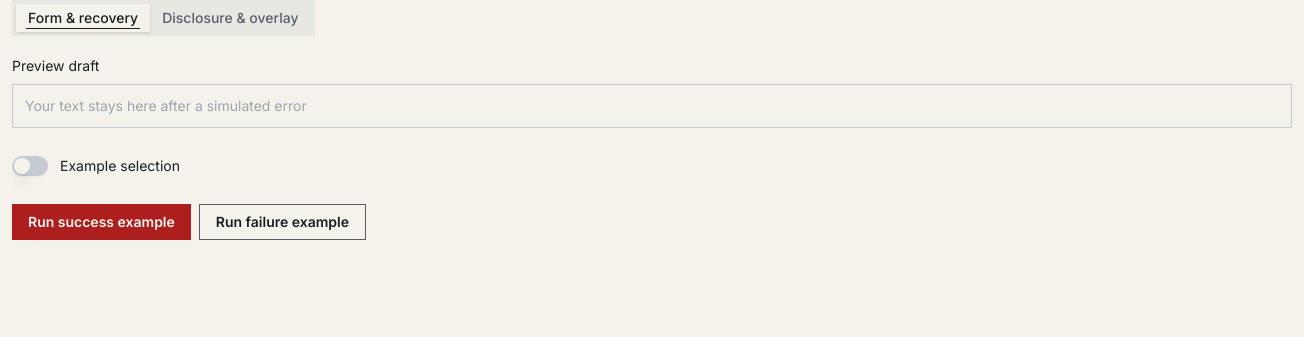
Test: isolated motion previews › preserves entered text through an explicit simulated failure and retry
Type "Keep this draft" into the field labelled "Preview draft".
click(652, 106); type("Keep this draft")  # box [12, 84, 1292, 128]
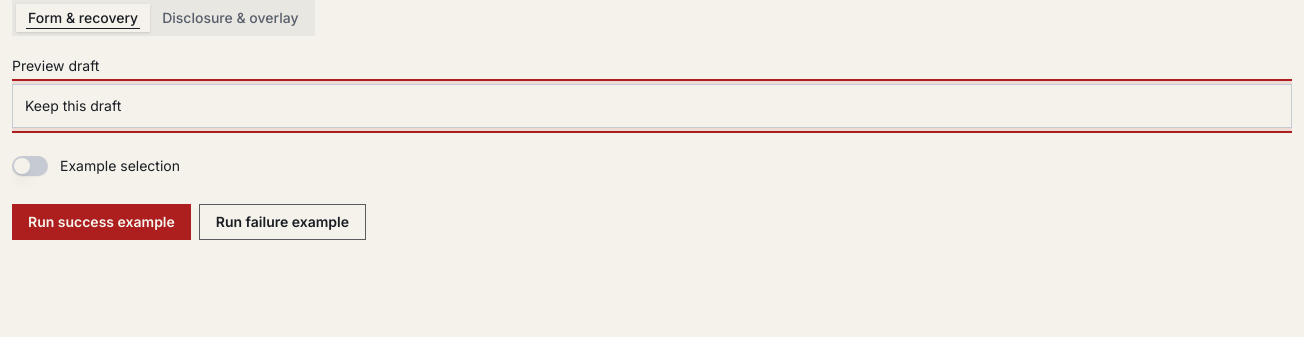
Click the button "Run failure example".
click(282, 222)  # box [199, 204, 366, 240]
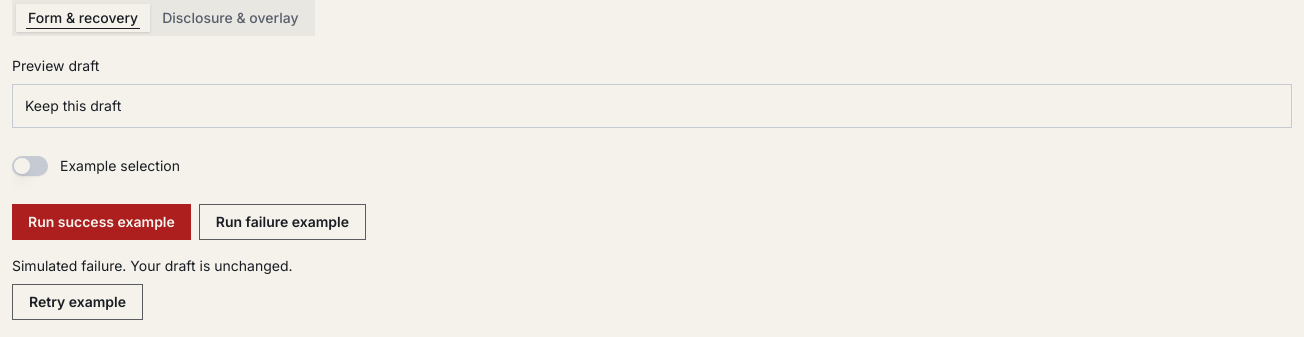
Expected: the message shows "Simulated failure", [12, 257, 293, 274]
Click the button "Retry example".
click(78, 302)  # box [12, 284, 143, 320]
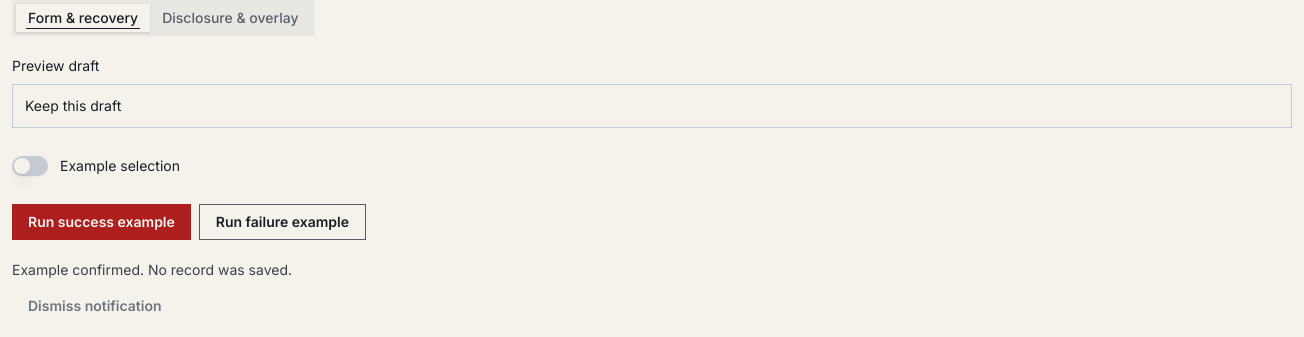
Expected: the text "Example confirmed. No record was saved." is shown, [12, 259, 292, 276]
